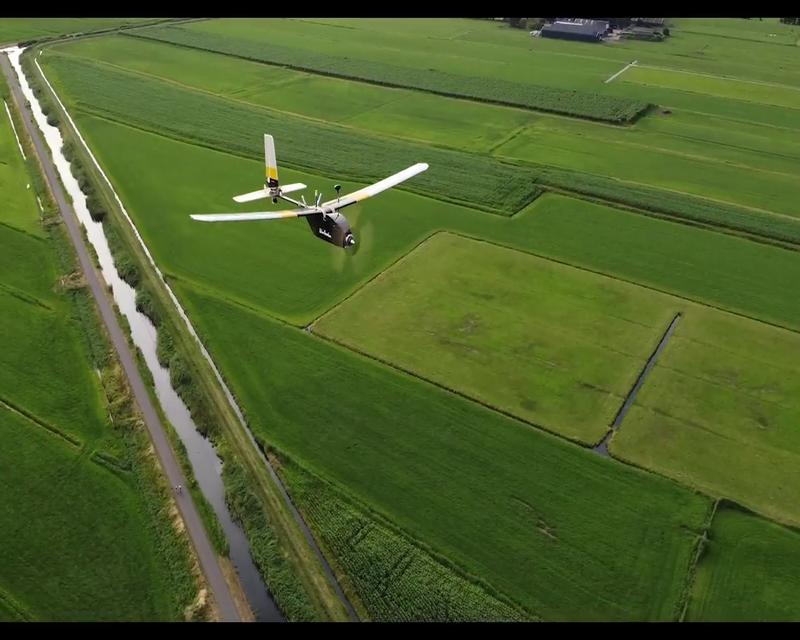UAV: (188, 131, 429, 251)
